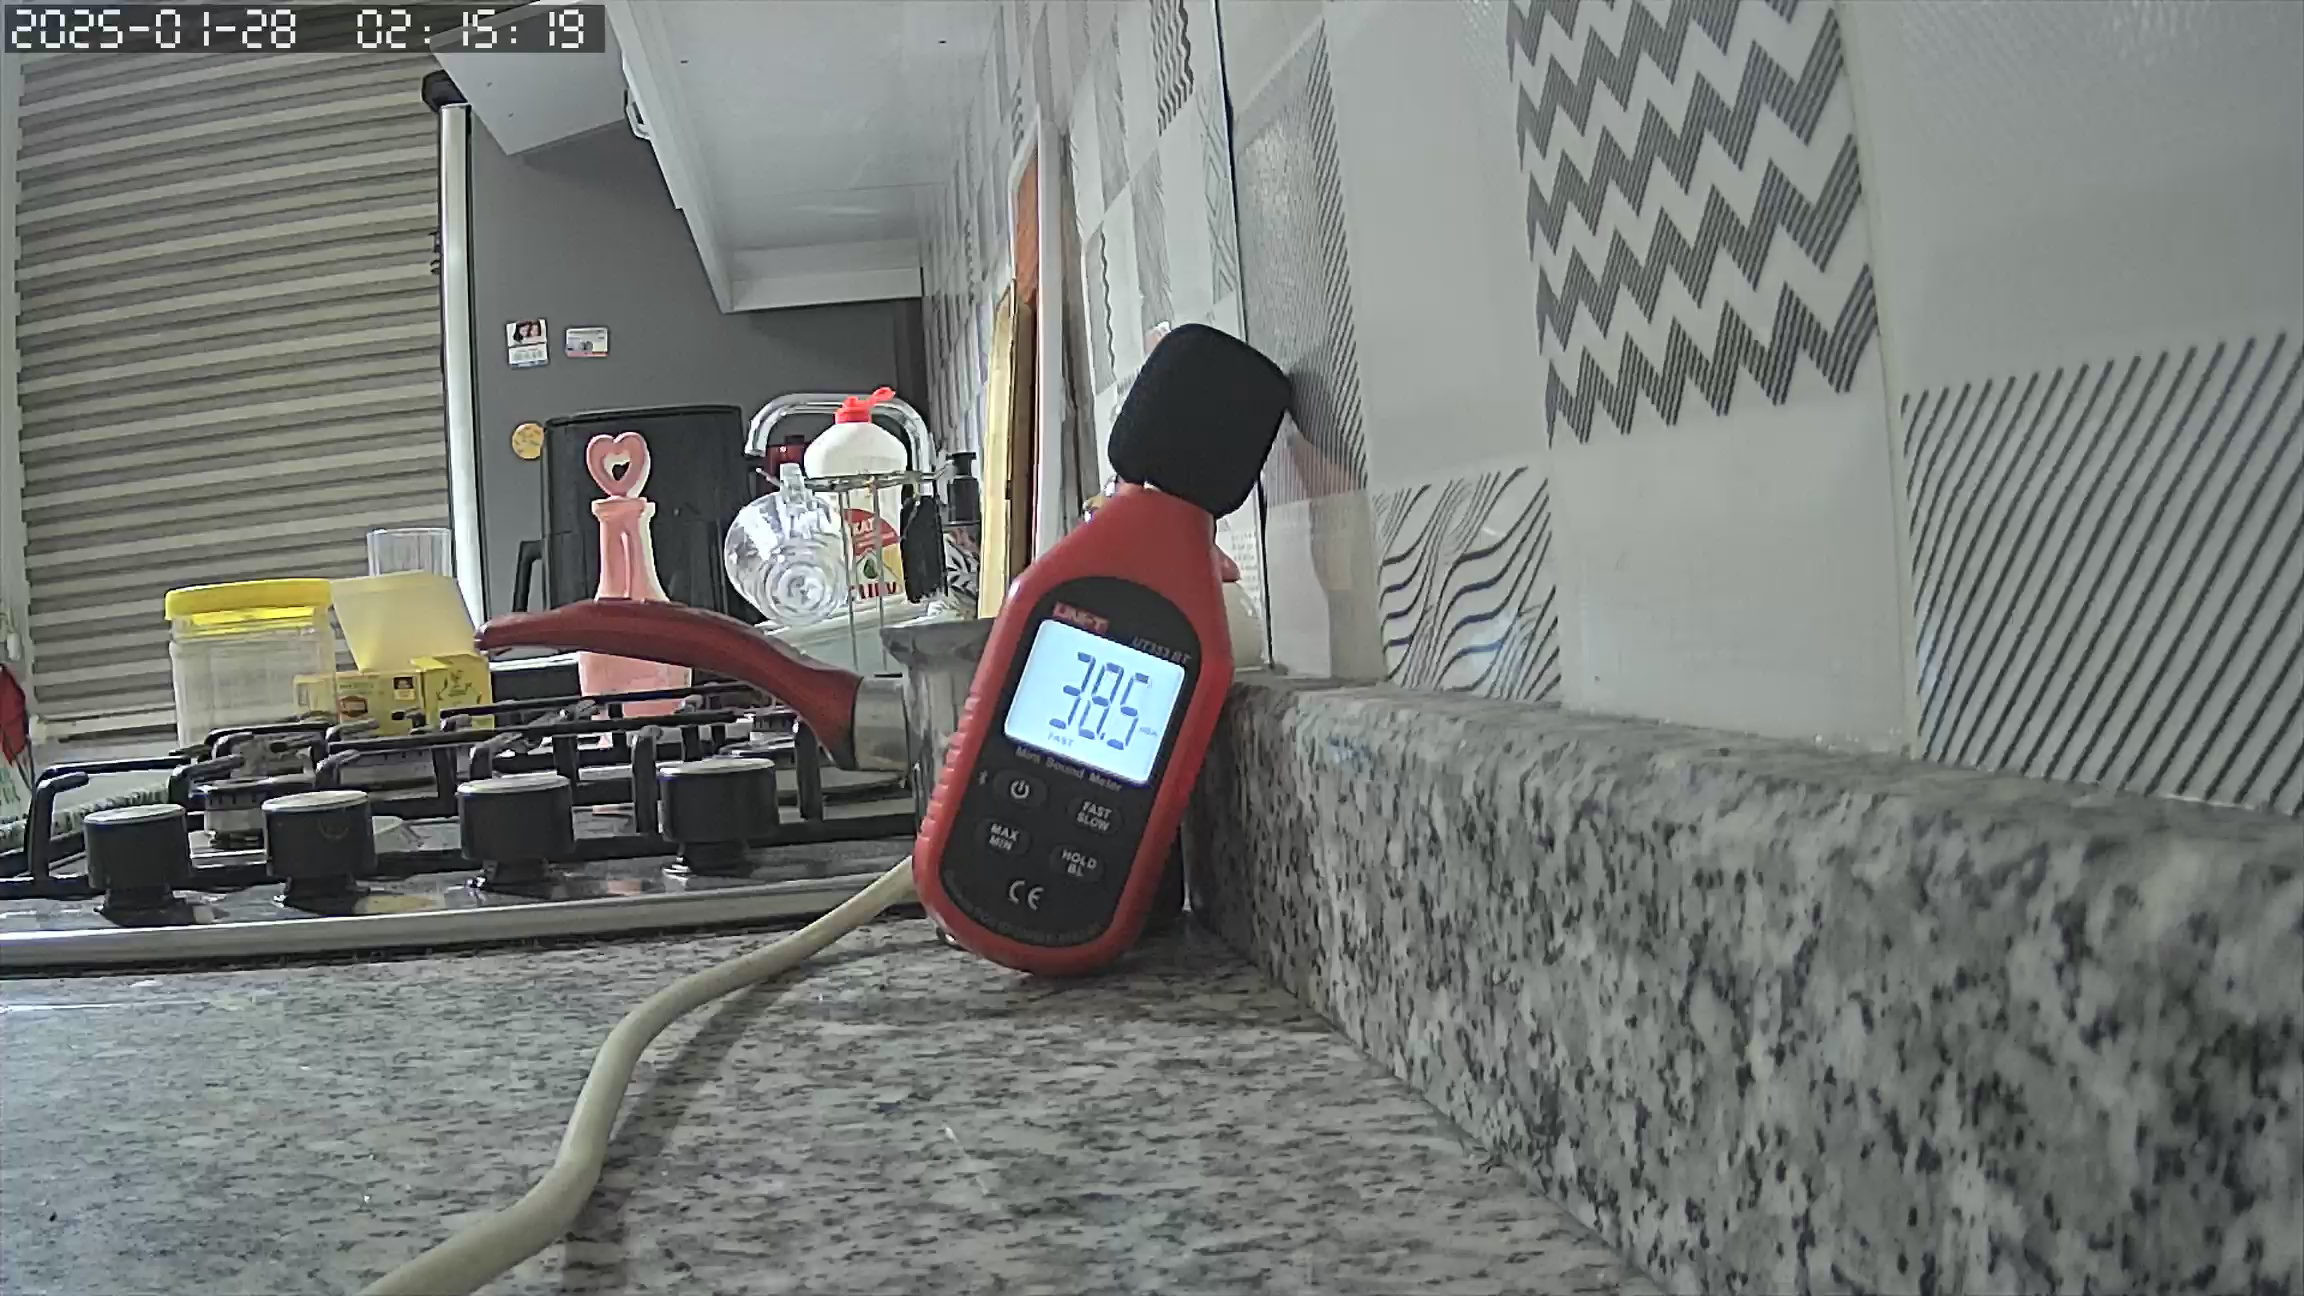screen: (1006, 620, 1180, 785)
